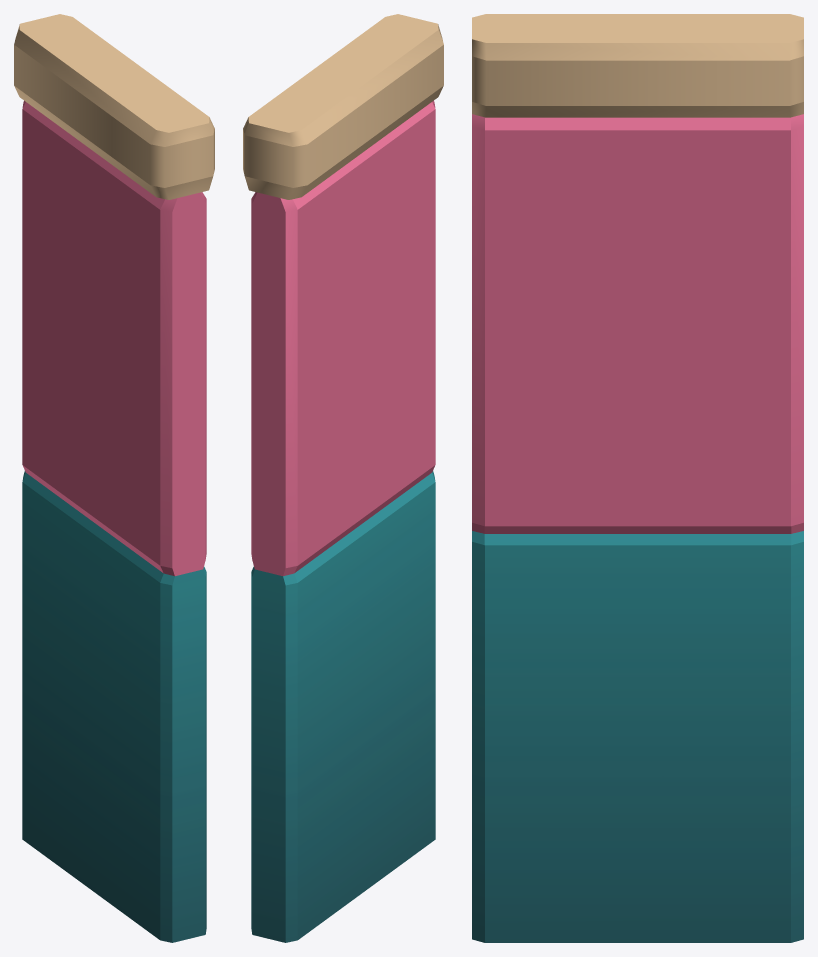
File: Wall_C_2.glb
3 renders of one model, left to right at view 1: azimuth 30°, elevation 25°; view 2: azimuth 150°, elevation 25°; view 3: azimuth 270°, elevation 25°, orthographic. The views are drawn at different scales.
Parts seen in each view (by area): view 1: Wall_C_2; view 2: Wall_C_2; view 3: Wall_C_2.
Boxes of the visible parts, left/top/right/bottom form: Wall_C_2: left=14, top=14, right=214, bottom=942; Wall_C_2: left=243, top=14, right=443, bottom=942; Wall_C_2: left=472, top=14, right=803, bottom=942.
Size of the model in its own units: 0.25 by 3 by 1.
Materials: 1 (1 with a texture image).
